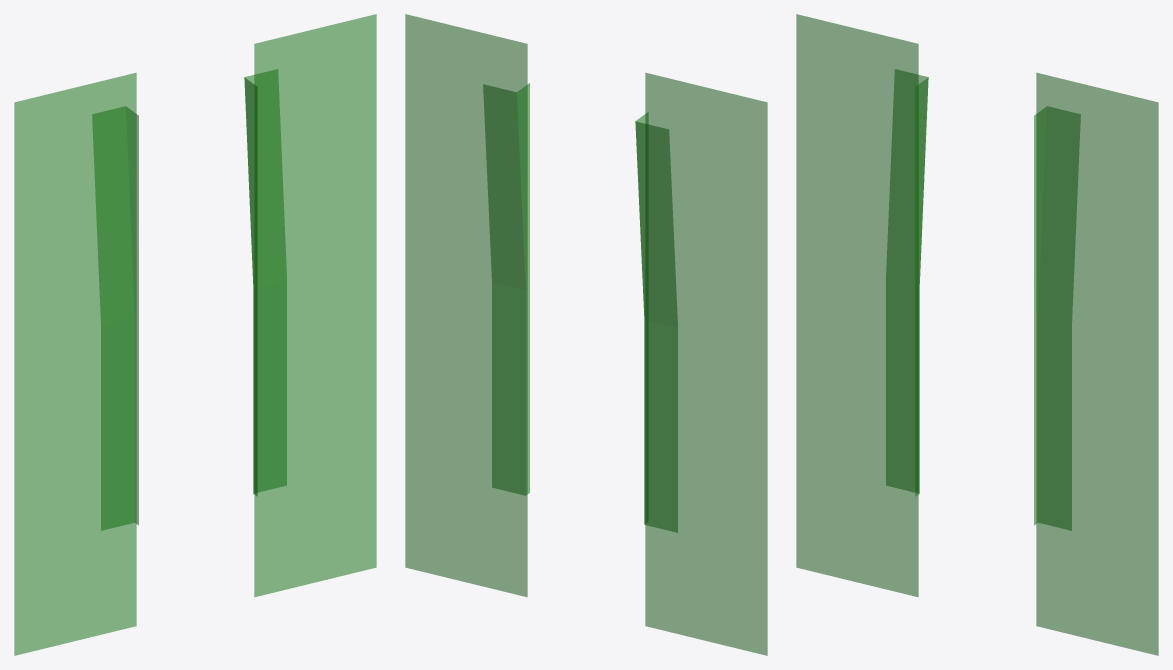
The model's file is D03_wall01.obj.
The picture shows the model from 3 angles, left to right: view 1: azimuth 30°, elevation 25°; view 2: azimuth 150°, elevation 25°; view 3: azimuth 330°, elevation 25°; orthographic projection.
Size of the model in its own units: 74 by 108 by 4.67.
